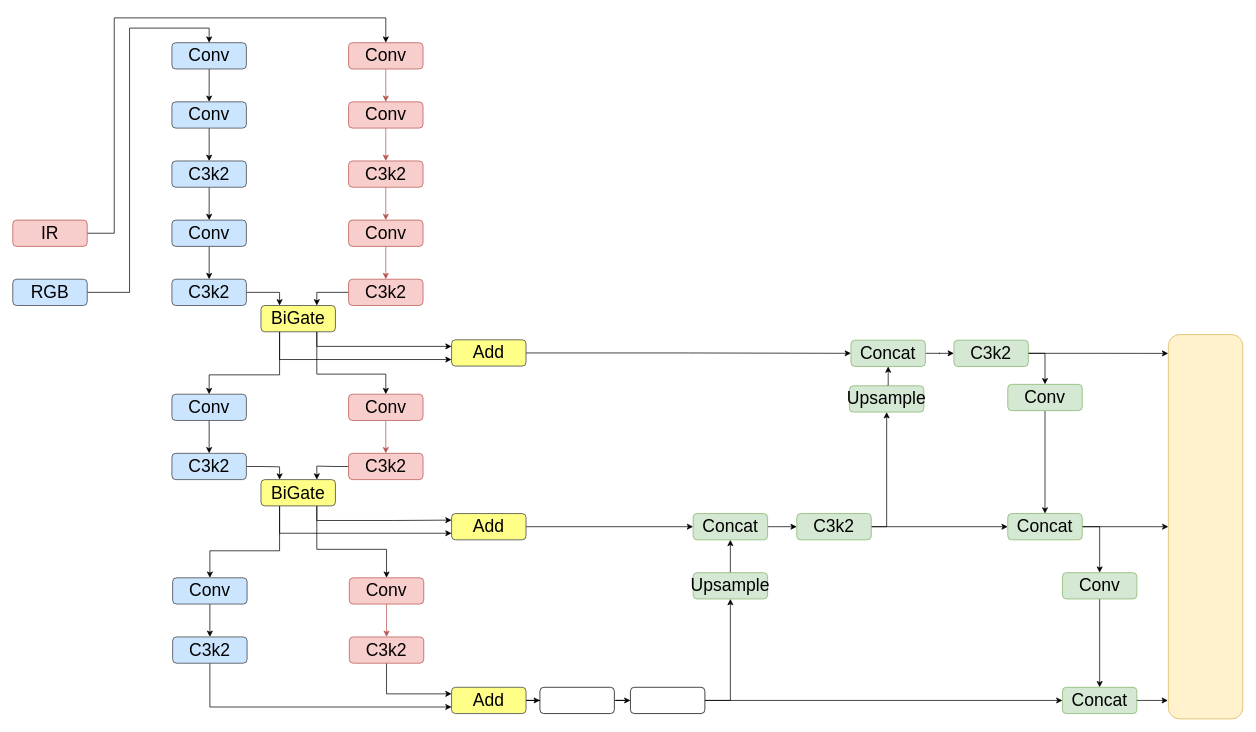
The diagram is 1256 pixels wide and 732 high, and some of its shapes have lost their labels. The centre of each missing label's shape, as x and y in pixels:
C2PSA: point (667, 700)
Detect: point (1205, 526)
SPPF: point (576, 700)
